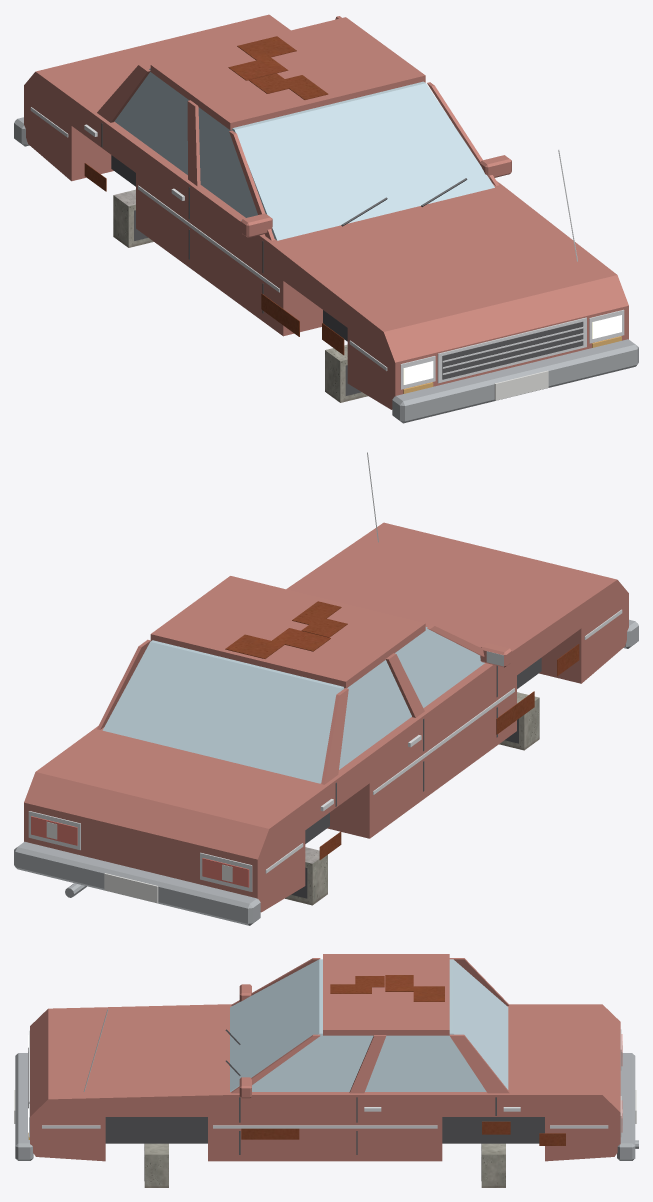
File: junk_sedan_r.glb
3 views of the same model, one above another, from view 1: azimuth 30°, elevation 25°; view 2: azimuth 150°, elevation 25°; view 3: azimuth 270°, elevation 25° (orthographic). The views are drawn at different scales.
Visible parts, largest first — view 1: junk_sedan_r_car_r, junk_sedan_r_glass, junk_sedan_r_steel, junk_sedan_r_chrome, junk_sedan_r_rust, junk_sedan_r_dark, junk_sedan_r_block, junk_sedan_r_lamp_glass, junk_sedan_r_paint_w, junk_sedan_r_rubber; view 2: junk_sedan_r_car_r, junk_sedan_r_glass, junk_sedan_r_steel, junk_sedan_r_rust, junk_sedan_r_chrome, junk_sedan_r_block, junk_sedan_r_neon_r, junk_sedan_r_paint_w, junk_sedan_r_rubber; view 3: junk_sedan_r_car_r, junk_sedan_r_glass, junk_sedan_r_rubber, junk_sedan_r_steel, junk_sedan_r_rust, junk_sedan_r_block, junk_sedan_r_chrome, junk_sedan_r_dark.
Boxes of the visible parts, bbox=[...] form: junk_sedan_r_car_r: bbox=[24, 14, 628, 409]; junk_sedan_r_glass: bbox=[114, 68, 494, 240]; junk_sedan_r_steel: bbox=[14, 117, 638, 423]; junk_sedan_r_chrome: bbox=[30, 107, 624, 389]; junk_sedan_r_rust: bbox=[84, 36, 344, 355]; junk_sedan_r_dark: bbox=[101, 123, 583, 395]; junk_sedan_r_block: bbox=[113, 189, 368, 402]; junk_sedan_r_lamp_glass: bbox=[403, 315, 621, 384]; junk_sedan_r_paint_w: bbox=[494, 370, 548, 400]; junk_sedan_r_rubber: bbox=[111, 155, 347, 341]; junk_sedan_r_car_r: bbox=[24, 522, 628, 912]; junk_sedan_r_glass: bbox=[102, 627, 484, 783]; junk_sedan_r_steel: bbox=[14, 619, 638, 925]; junk_sedan_r_rust: bbox=[225, 601, 579, 859]; junk_sedan_r_chrome: bbox=[28, 452, 622, 891]; junk_sedan_r_block: bbox=[285, 692, 539, 905]; junk_sedan_r_neon_r: bbox=[31, 816, 249, 887]; junk_sedan_r_paint_w: bbox=[46, 822, 232, 903]; junk_sedan_r_rubber: bbox=[305, 657, 541, 843]; junk_sedan_r_car_r: bbox=[30, 954, 620, 1161]; junk_sedan_r_glass: bbox=[230, 959, 508, 1091]; junk_sedan_r_rubber: bbox=[105, 1117, 544, 1143]; junk_sedan_r_steel: bbox=[15, 1053, 638, 1160]; junk_sedan_r_rust: bbox=[241, 975, 565, 1145]; junk_sedan_r_block: bbox=[144, 1143, 505, 1187]; junk_sedan_r_chrome: bbox=[28, 1009, 621, 1137]; junk_sedan_r_dark: bbox=[28, 1029, 496, 1180].
Bounding box in the file's own units: 2 × 1.6 × 5.12.
Materials: 14 (2 with a texture image).
